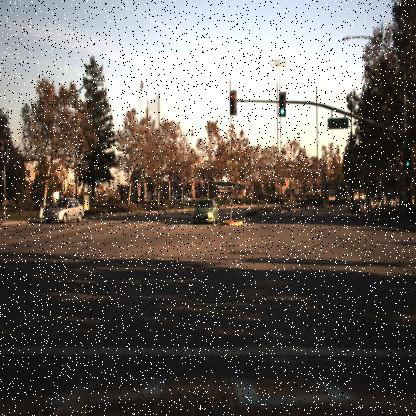car: (43, 193, 85, 226), (189, 197, 220, 226), (348, 194, 364, 216), (172, 191, 194, 206)
trafficLight-Green: (278, 89, 287, 117), (403, 142, 411, 170)
trafficLight-RedLeft: (228, 87, 238, 113)
